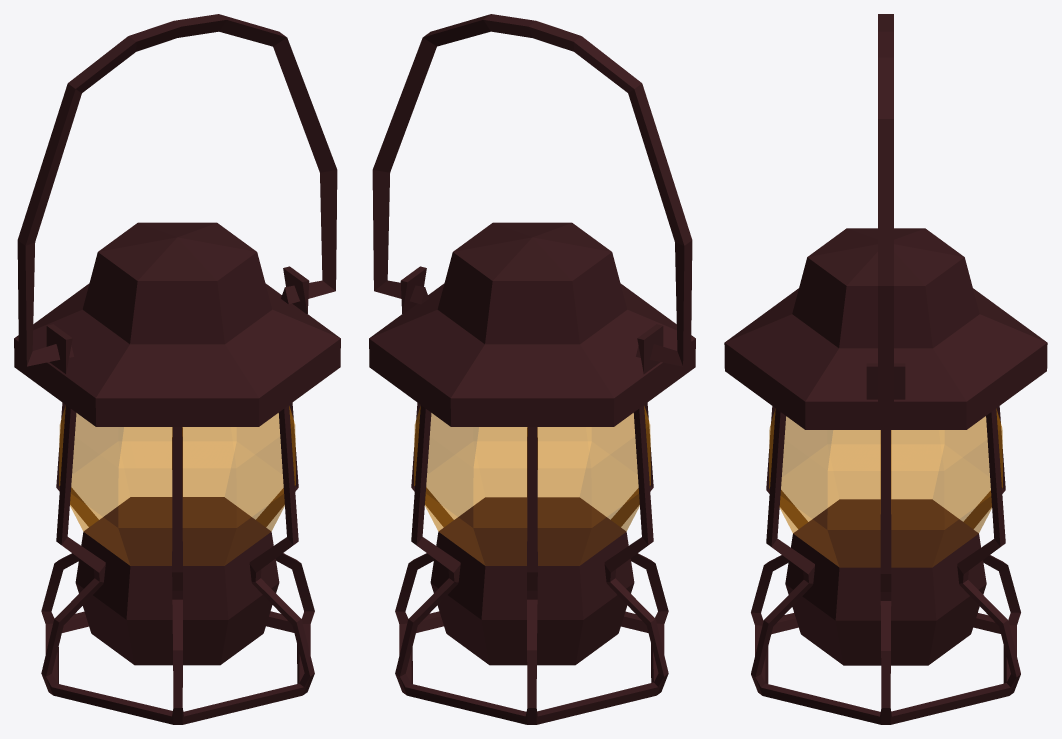
File: 0c76fdc5-9c0a-4c54-980f-389503b4f19e.glb
3 renders of one model, left to right at view 1: azimuth 30°, elevation 25°; view 2: azimuth 150°, elevation 25°; view 3: azimuth 270°, elevation 25°, orthographic.
Parts seen in each view (by area): view 1: BrakemanLantern; view 2: BrakemanLantern; view 3: BrakemanLantern.
Boxes of the visible parts, x1,y1,x2,y2 form: BrakemanLantern: (14, 14, 340, 724); BrakemanLantern: (369, 14, 695, 724); BrakemanLantern: (724, 14, 1047, 724).
Bounding box in the file's own units: 0.2012 × 0.3943 × 0.1827.
2 materials, 2 textured.
